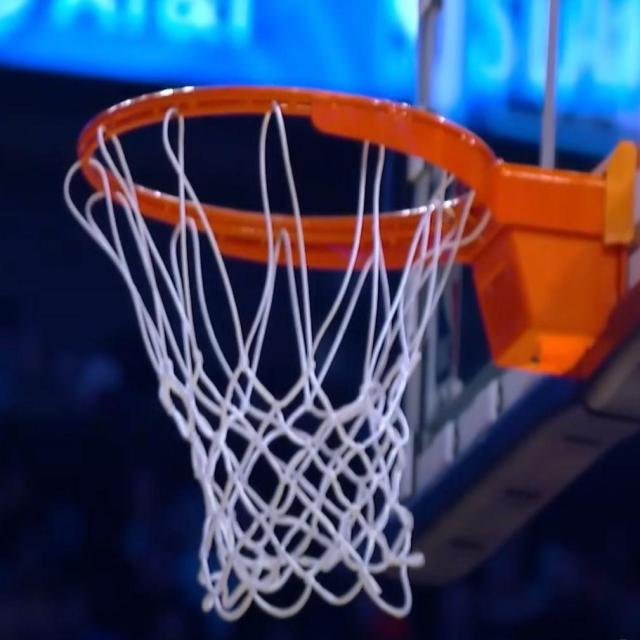hoop: (54, 100, 610, 610)
